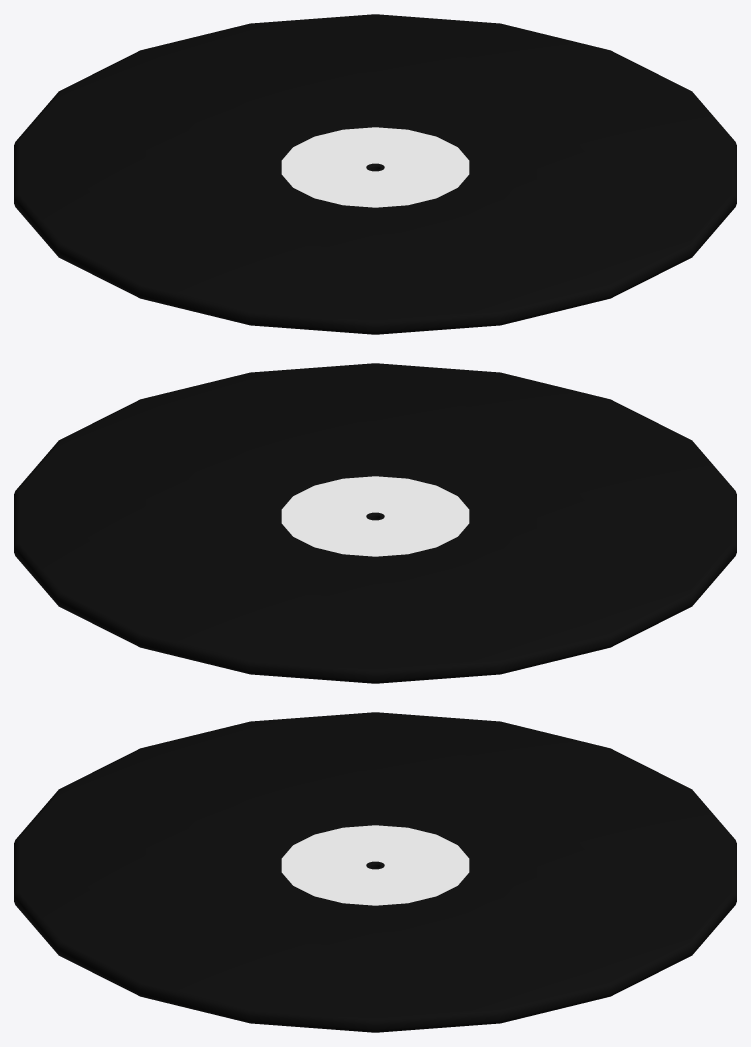
File: Record_Nice_1.FBX
The picture shows the model from 3 angles, top to bottom: view 1: azimuth 30°, elevation 25°; view 2: azimuth 150°, elevation 25°; view 3: azimuth 270°, elevation 25°; orthographic projection.
Visible parts, largest first — view 1: Record001; view 2: Record001; view 3: Record001.
Part boxes in pixels (x1,y1,x2,y2): Record001: (14,14,736,334); Record001: (14,363,736,683); Record001: (14,712,736,1032).
Bounding box in the file's own units: 11.92 × 0.2512 × 11.74.
